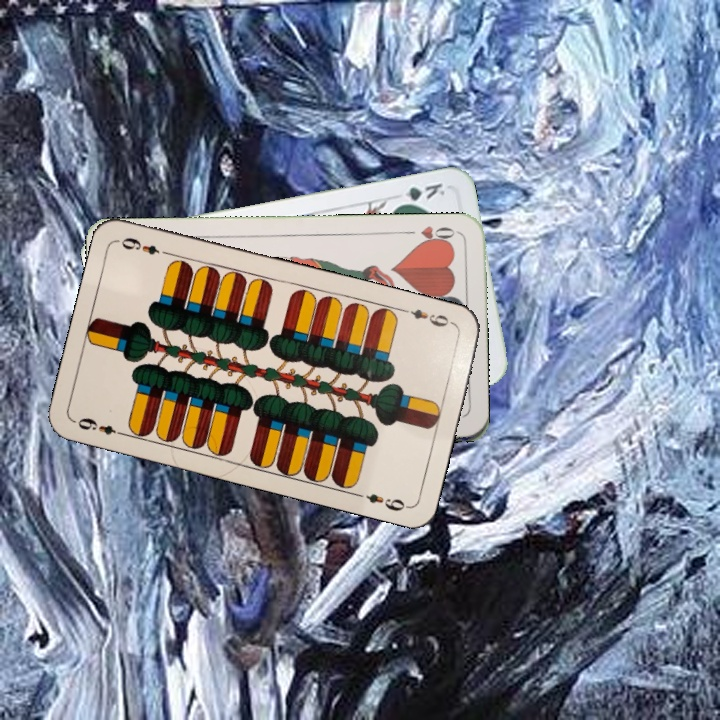E9: (399, 305, 457, 330), (74, 413, 129, 439)
GK: (392, 179, 448, 209)
HO: (401, 221, 460, 248)
